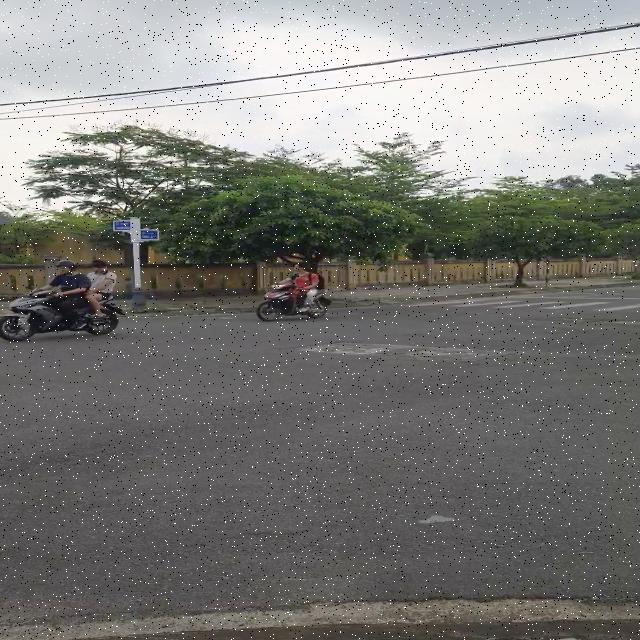no_helmet: (95, 260, 114, 277)
